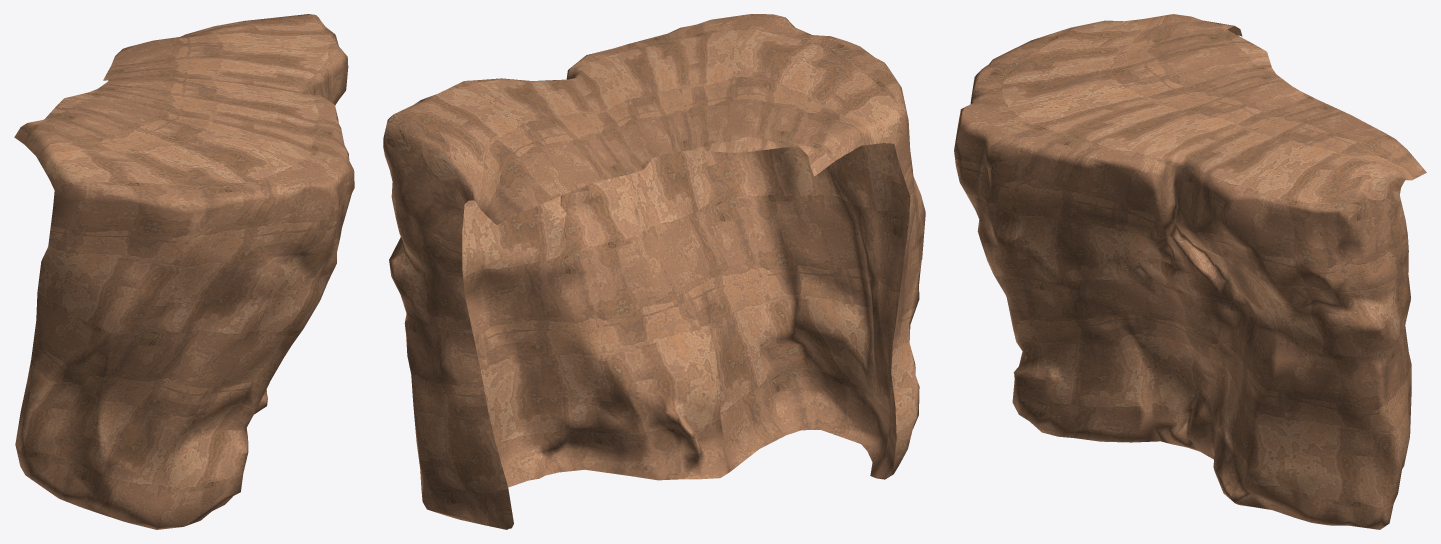
Rendered from Ob_RockCliff33.fbx.
3 renders of one model, left to right at view 1: azimuth 30°, elevation 25°; view 2: azimuth 150°, elevation 25°; view 3: azimuth 270°, elevation 25°, orthographic. The views are drawn at different scales.
Visible parts, largest first — view 1: Ob_RockCliff33; view 2: Ob_RockCliff33; view 3: Ob_RockCliff33.
Part boxes in pixels (x1=…): Ob_RockCliff33: x1=14, y1=14, x2=354, y2=529; Ob_RockCliff33: x1=383, y1=14, x2=925, y2=529; Ob_RockCliff33: x1=954, y1=14, x2=1426, y2=529.
Size of the model in its own units: 14735 by 12792 by 14662.
